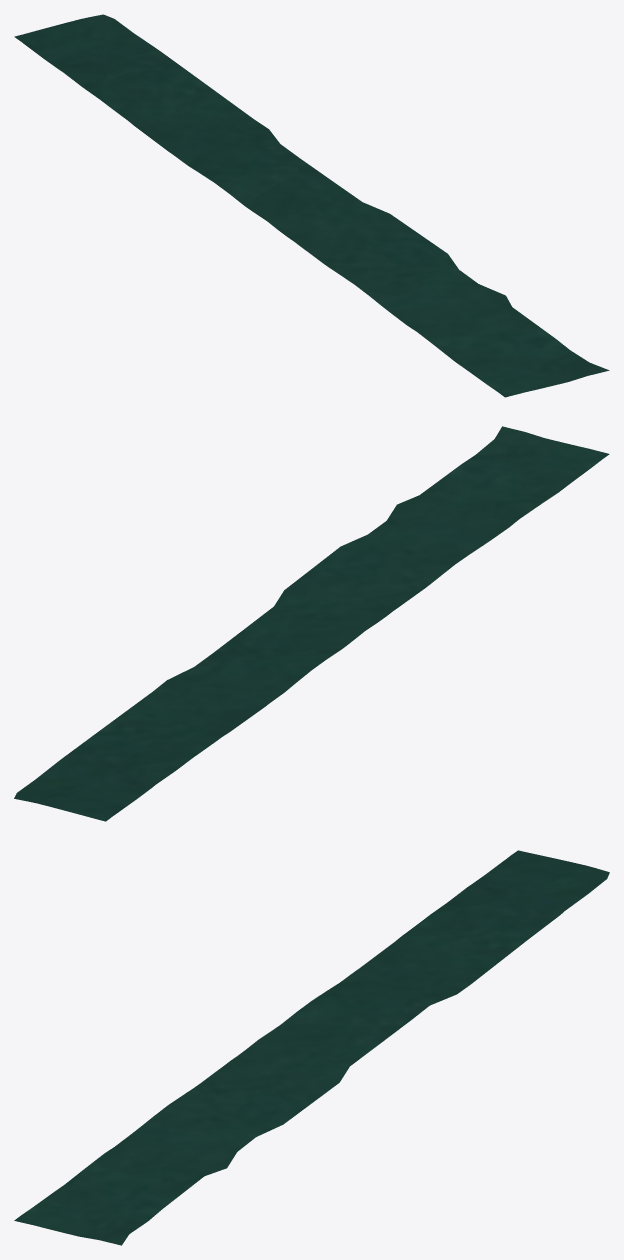
3 renders of one model, top to bottom at view 1: azimuth 30°, elevation 25°; view 2: azimuth 150°, elevation 25°; view 3: azimuth 330°, elevation 25°, orthographic. The views are drawn at different scales.
Size of the model in its own units: 12.89 by 0.472 by 104.
Materials: 1 (1 with a texture image).
